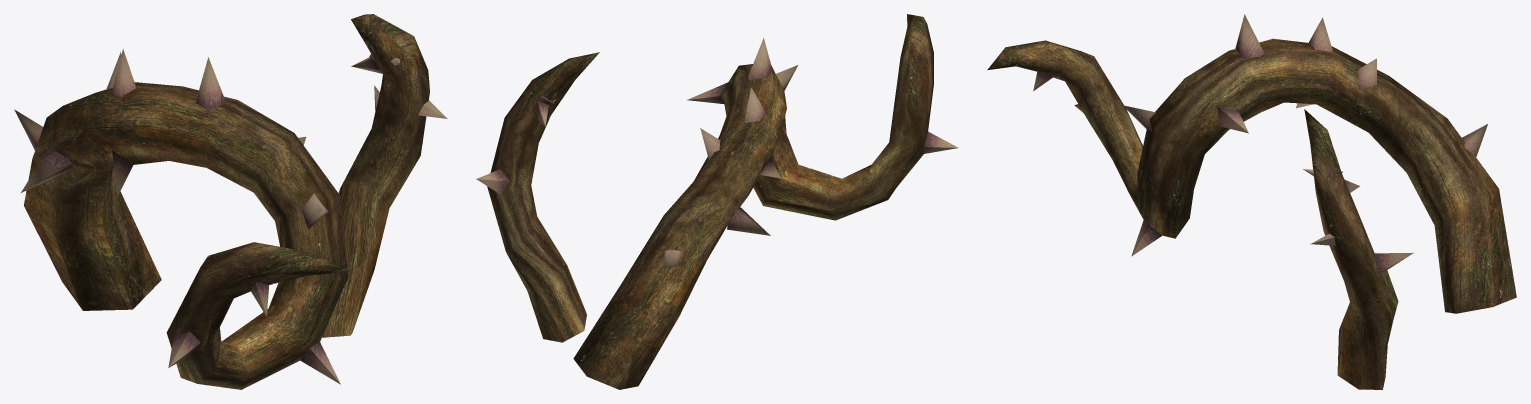
File: obj_mtthund_thorn05.glb
3 renders of one model, left to right at view 1: azimuth 30°, elevation 25°; view 2: azimuth 150°, elevation 25°; view 3: azimuth 270°, elevation 25°, orthographic. The views are drawn at different scales.
Parts seen in each view (by area): view 1: obj_mtthund_thorn05; view 2: obj_mtthund_thorn05; view 3: obj_mtthund_thorn05.
Part boxes in pixels (left/top/right/bottom): obj_mtthund_thorn05: left=14, top=14, right=447, bottom=389; obj_mtthund_thorn05: left=476, top=14, right=958, bottom=389; obj_mtthund_thorn05: left=987, top=14, right=1516, bottom=389.
Size of the model in its own units: 10.95 by 9.3 by 14.94.
1 material, 1 textured.
